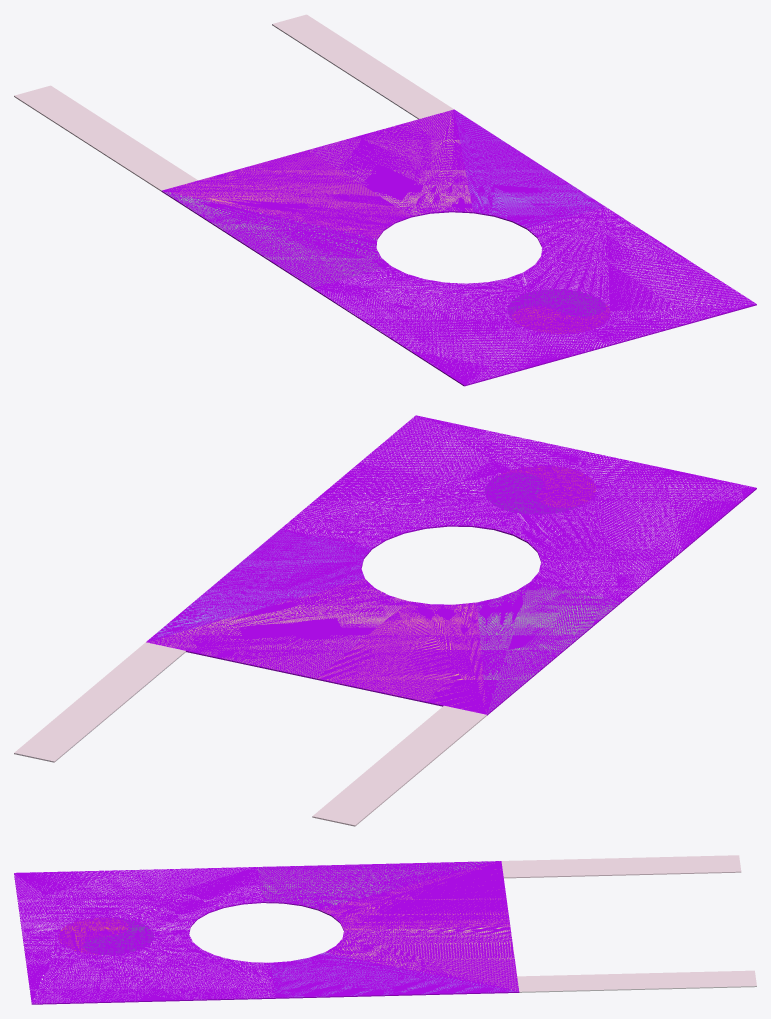
Rendered from kite5.dae.
3 renders of one model, top to bottom at view 1: azimuth 30°, elevation 25°; view 2: azimuth 150°, elevation 25°; view 3: azimuth 270°, elevation 25°, orthographic. The views are drawn at different scales.
Visible parts, largest first — view 1: Body.005, Body, Body.008, Body.006, Body.004, group_2, group_0.002, Body.003, group_3, Body.001; view 2: Body.005, Body.008, Body, Body.004, Body.006, group_2, group_0.002, Body.003, group_3; view 3: Body.005, Body.008, Body, Body.004, Body.006, group_2, group_0.002, group_3, Body.003, Body.001, group_0.
Part boxes in pixels (x1,y1,x2,y2): Body.005: [313, 207, 756, 385]; Body: [162, 150, 410, 238]; Body.008: [308, 109, 472, 216]; Body.006: [162, 191, 390, 287]; Body.004: [454, 109, 605, 228]; group_2: [14, 85, 197, 191]; group_0.002: [272, 14, 453, 118]; Body.003: [507, 289, 605, 320]; group_3: [512, 303, 610, 333]; Body.001: [161, 191, 756, 386]; Body.005: [281, 415, 756, 601]; Body.008: [146, 579, 407, 678]; Body: [316, 601, 486, 714]; Body.004: [146, 529, 371, 641]; Body.006: [477, 582, 621, 714]; group_2: [312, 705, 486, 825]; group_0.002: [14, 642, 185, 761]; Body.003: [484, 472, 583, 514]; group_3: [496, 465, 596, 507]; Body.005: [14, 867, 275, 1003]; Body.008: [324, 926, 519, 991]; Body: [319, 861, 510, 930]; Body.004: [271, 952, 518, 997]; Body.006: [257, 861, 500, 909]; group_2: [501, 855, 741, 878]; group_0.002: [517, 970, 756, 991]; group_3: [58, 917, 128, 954]; Body.003: [83, 917, 154, 955]; Body.001: [14, 874, 519, 1004]; group_0: [519, 986, 756, 992].
Size of the model in its own units: 2.72 by 5.75 by 0.00852.
